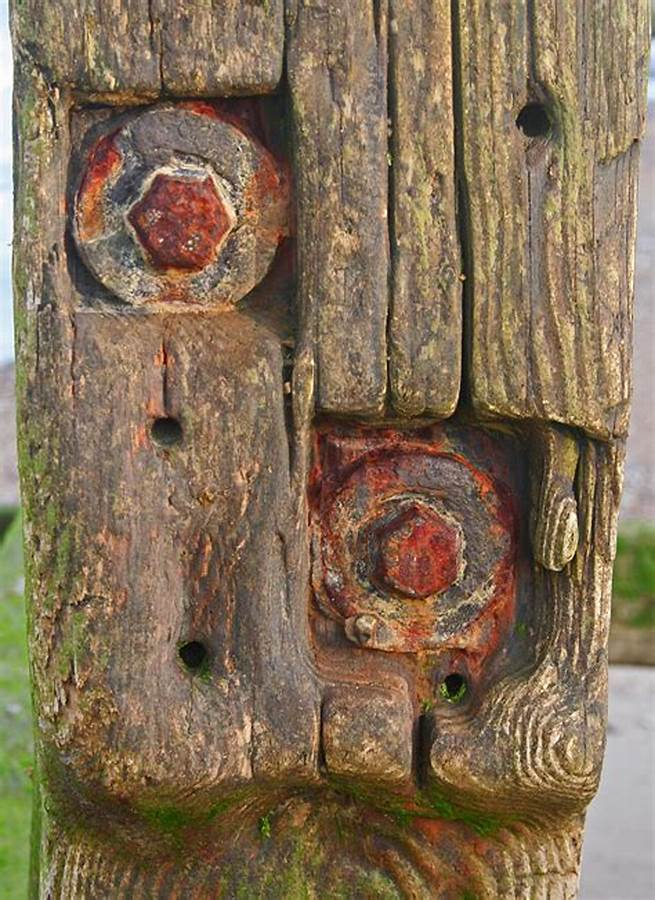bolt_a: (129, 167, 233, 270), (375, 503, 463, 601)
